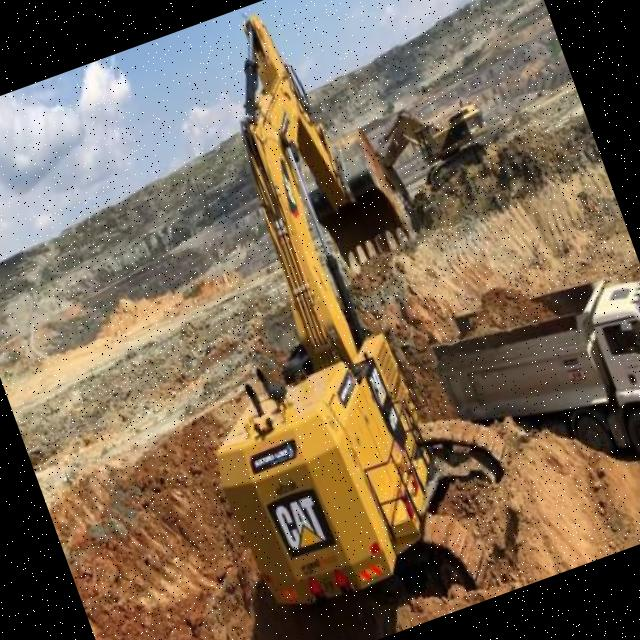Dump Truck: (422, 250, 640, 520)
Excavator: (76, 0, 535, 640), (370, 86, 504, 214)
